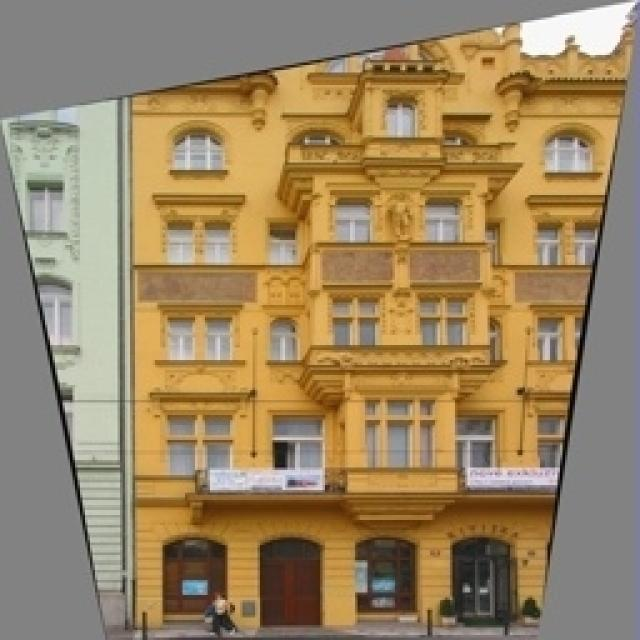building: (125, 20, 640, 640)
